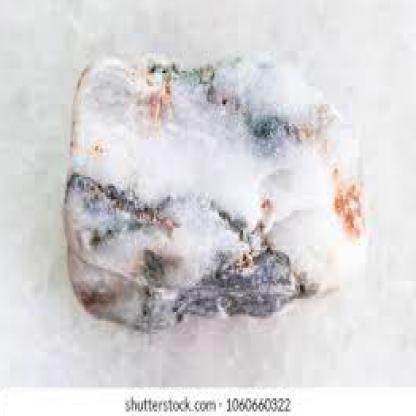Metamorphic_Marble: (57, 42, 378, 328)
